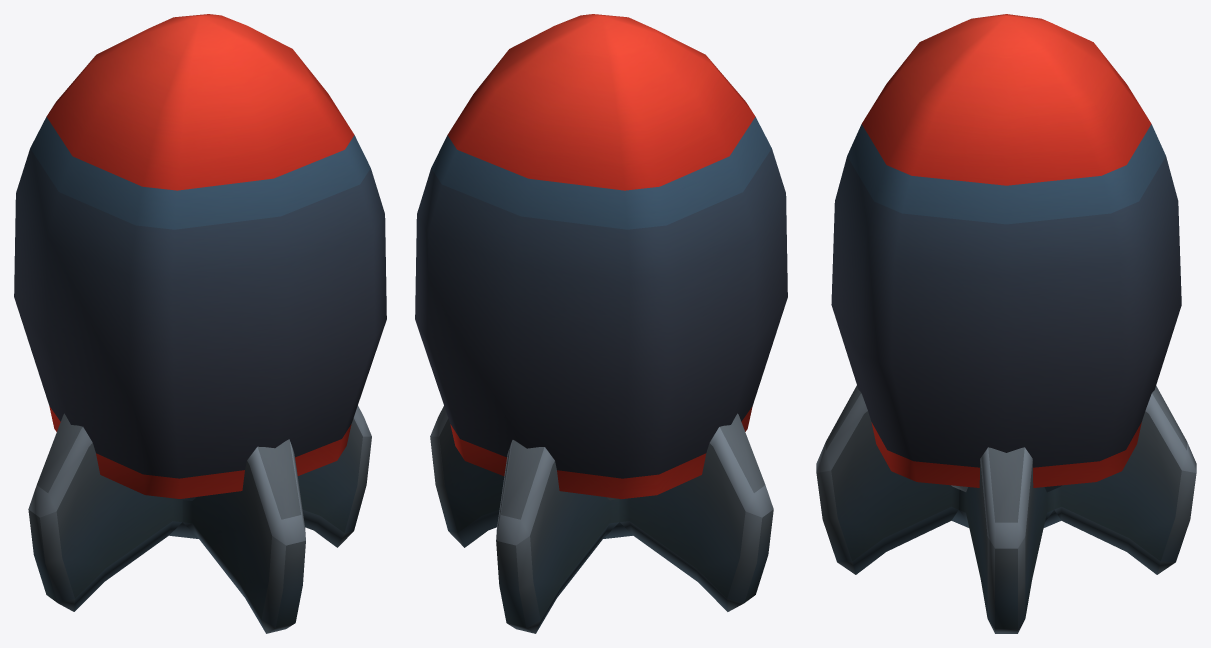
The model's file is bomb_airplane.fbx.
The picture shows the model from 3 angles, left to right: view 1: azimuth 30°, elevation 25°; view 2: azimuth 150°, elevation 25°; view 3: azimuth 270°, elevation 25°; orthographic projection.
Parts seen in each view (by area): view 1: bomb_airplane; view 2: bomb_airplane; view 3: bomb_airplane.
Boxes of the visible parts, left/top/right/bottom form: bomb_airplane: left=14, top=14, right=386, bottom=633; bomb_airplane: left=415, top=14, right=787, bottom=633; bomb_airplane: left=816, top=14, right=1196, bottom=633.
Size of the model in its own units: 63.84 by 103 by 63.84.
